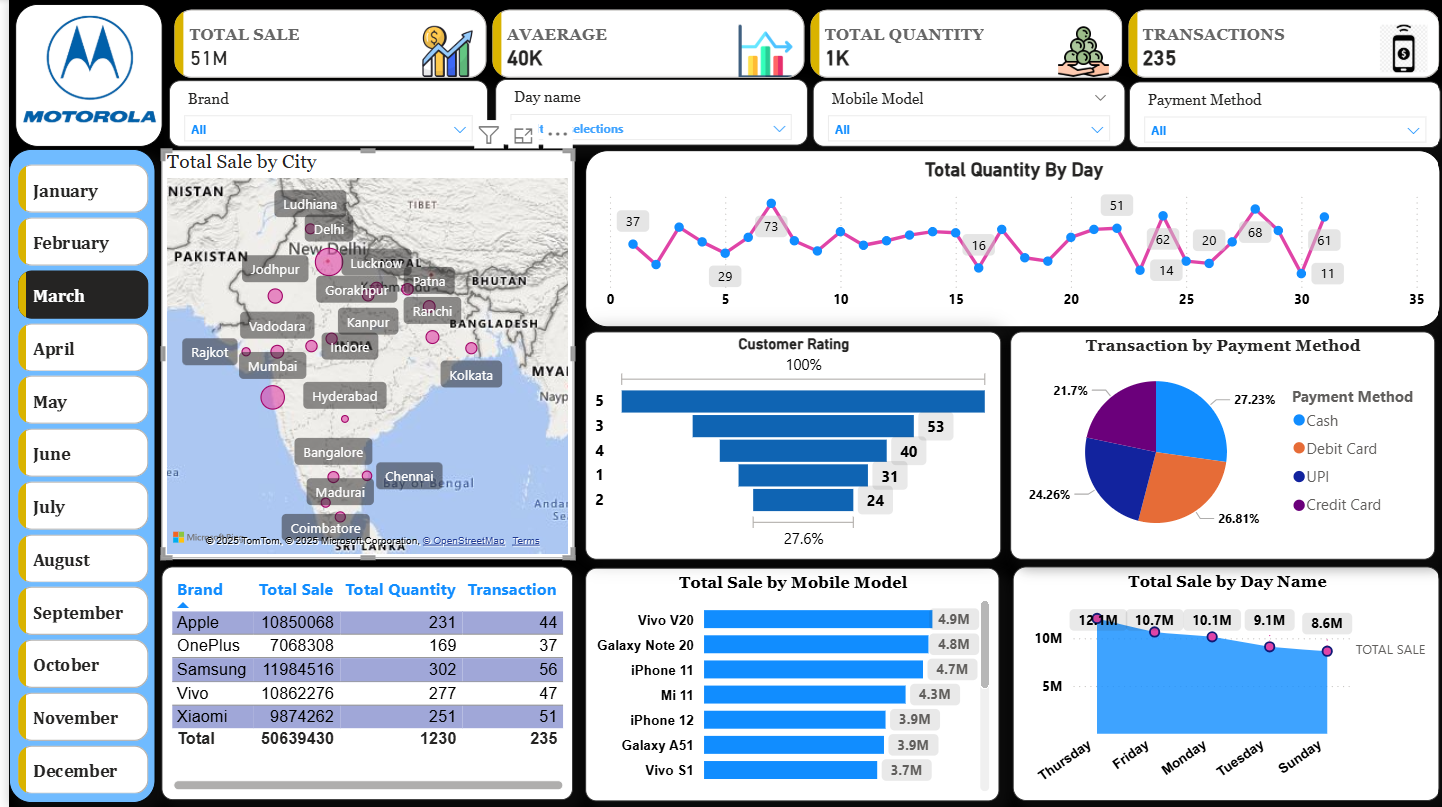

Layout of this report page (visuals, bound fields, positions):
{"tool":"powerbi","page":{"name":"Page 1","canvas":[1280,720],"ordinal":0},"visuals":[{"type":"slicer","fields":{"Values":["sale data.Brand"]},"box":[143,72,284,59],"z":0},{"type":"shape","box":[0,133.5,130.1,582.4],"z":1000},{"type":"shape","box":[5.1,4,130.9,126.8],"z":2000},{"type":"advancedSlicerVisual","fields":{"Values":["sale data.DATE.Variation.Date Hierarchy.Month"]},"box":[3,143,126,573],"z":3000},{"type":"image","box":[7.5,0,128.3,125],"z":4000},{"type":"cardVisual","fields":{"Data":["sale data.TOTAL SALE","sale data.AVAERAGE","sale data.total quantity","sale data.TRANSACTIONS"]},"box":[143,4,1137,71],"z":5000},{"type":"slicer","fields":{"Values":["sale data.Day name"]},"box":[433,71,278,59],"z":6000},{"type":"slicer","fields":{"Values":["sale data.Mobile Model"]},"box":[715.9,72.3,278.2,58.8],"z":7000},{"type":"slicer","fields":{"Values":["sale data.Payment Method"]},"box":[997.1,73.5,278.2,58.8],"z":8000},{"type":"map","title":"Total Sale by City","fields":{"Category":["sale data.City"],"Size":["sale data.TOTAL SALE"]},"box":[136,135,367,364],"z":9000},{"type":"lineChart","title":"Total Quantity By Day","fields":{"Y":["sale data.total quantity"],"Category":["sale data.DATE.Variation.Date Hierarchy.Day","sale data.DATE.Variation.Date Hierarchy.Month"]},"box":[513,134.8,762.3,158],"z":10000},{"type":"tableEx","fields":{"Values":["sale data.Brand","sale data.TOTAL SALE","sale data.total quantity","sale data.TRANSACTIONS"]},"box":[136.1,505.6,366.7,208.3],"z":11000},{"type":"clusteredBarChart","title":"Total Sale by Mobile Model","fields":{"Y":["sale data.TOTAL SALE"],"Category":["sale data.Mobile Model"]},"box":[513,506,369,208],"z":12000},{"type":"areaChart","title":"Total Sale by Day Name","fields":{"Category":["sale data.Day name"],"Y":["sale data.TOTAL SALE"]},"box":[894.2,505.8,381.2,208.7],"z":13000},{"type":"funnel","title":"Customer Rating","fields":{"Y":["CountNonNull(sale data.Customer Ratings)"],"Category":["sale data.Customer Ratings"]},"box":[513,296,370,203],"z":14000},{"type":"pieChart","title":"Transaction by Payment Method","fields":{"Category":["sale data.Payment Method"],"Y":["CountNonNull(sale data.Transaction ID)"]},"box":[892,296,378,203],"z":15000}]}

Visuals, with their boxes in screenshot pixels (x1, y1, x2, y2), scaled from the page's 1280x720 canvas onto the 1442x807 screenshot:
slicer - sale data.Brand: BBox(161, 81, 481, 147)
shape: BBox(0, 150, 147, 802)
shape: BBox(6, 4, 153, 147)
advancedSlicerVisual - sale data.DATE.Variation.Date Hierarchy.Month: BBox(3, 160, 145, 803)
image: BBox(8, 0, 153, 140)
cardVisual - sale data.TOTAL SALE x sale data.AVAERAGE: BBox(161, 4, 1441, 84)
slicer - sale data.Day name: BBox(488, 80, 801, 146)
slicer - sale data.Mobile Model: BBox(807, 81, 1120, 147)
slicer - sale data.Payment Method: BBox(1123, 82, 1437, 148)
"Total Sale by City" map: BBox(153, 151, 567, 559)
"Total Quantity By Day" lineChart: BBox(578, 151, 1437, 328)
tableEx - sale data.Brand x sale data.TOTAL SALE: BBox(153, 567, 566, 800)
"Total Sale by Mobile Model" clusteredBarChart: BBox(578, 567, 994, 800)
"Total Sale by Day Name" areaChart: BBox(1007, 567, 1437, 801)
"Customer Rating" funnel: BBox(578, 332, 995, 559)
"Transaction by Payment Method" pieChart: BBox(1005, 332, 1431, 559)
